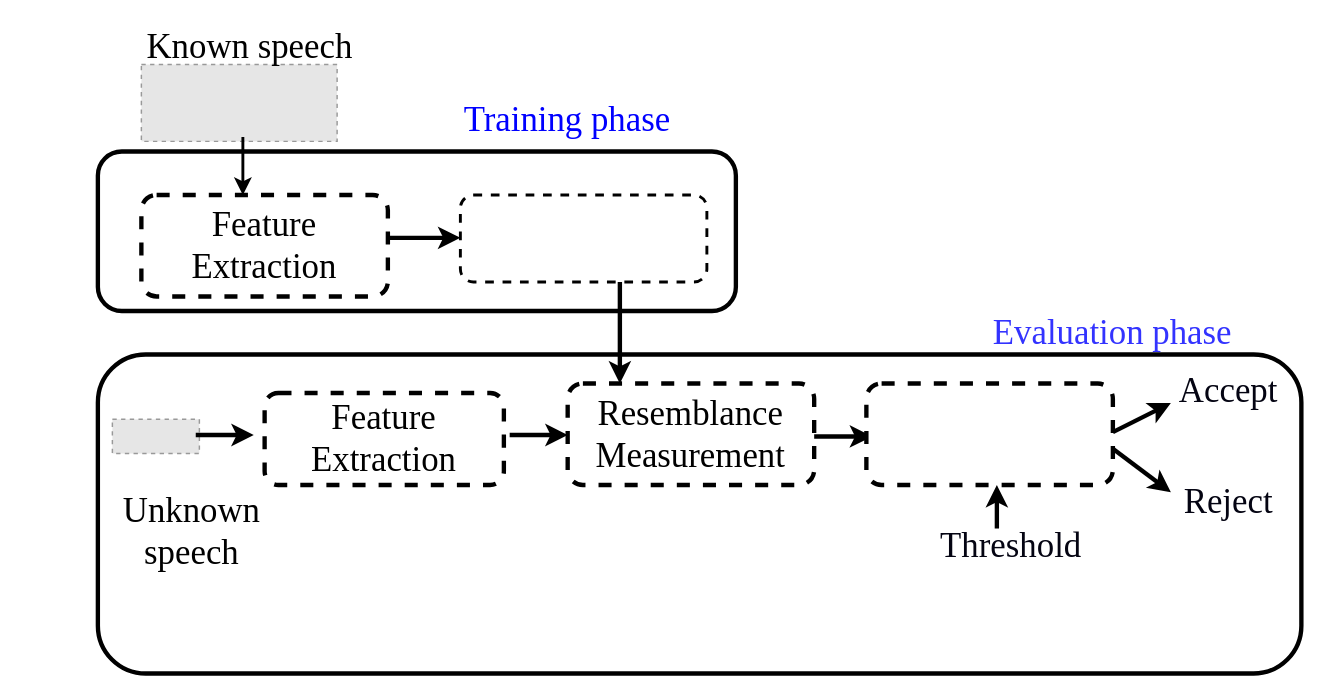
This 1328x700 diagram has some shape labels left out. Grey dashed boxes stand in for pictures. Here are the shapes that lost their labels. From the top down, the centre of each, then its label:
the point at 583,238: Speaker Modeling
the point at 988,433: Decision
